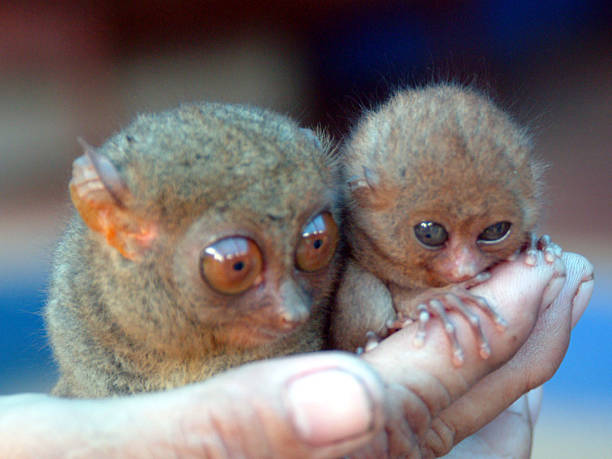tarsier: (39, 106, 343, 394), (337, 94, 550, 358)
